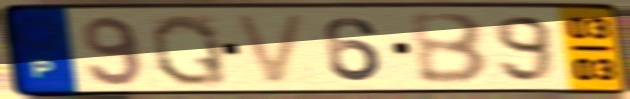6: (321, 15, 387, 83)
9: (79, 13, 146, 88), (491, 13, 560, 83)
B: (405, 11, 493, 87)
Q: (147, 11, 231, 88)
V: (230, 11, 312, 88)
